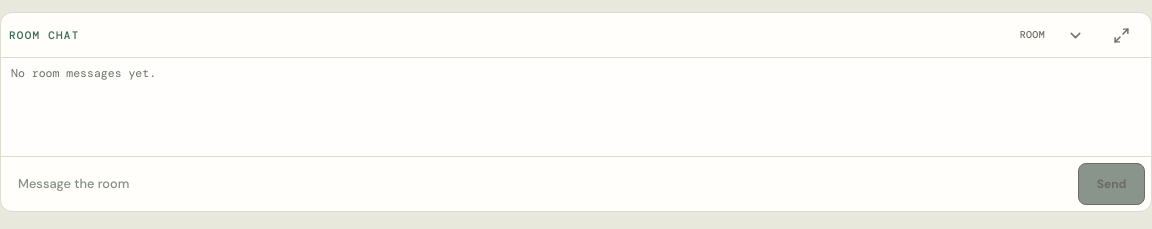
Test: RoomChatPanel message polling › sends player chat to the selected non-demo world
Expected: the text "No room messages yet." is shown, x1=11 y1=66 x2=156 y2=81
Type "Hello Bellwold" into the field labelled "Message the room" at coordinates (540, 184), box x1=7 y1=163 x2=1072 y2=205
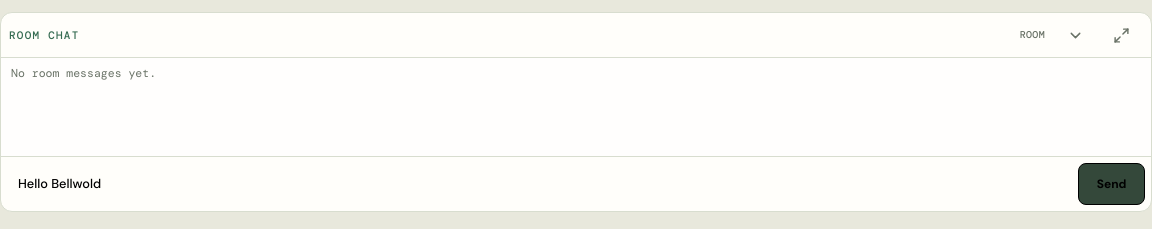
Submit the form named "Message the room", box x1=1 y1=156 x2=1151 y2=211
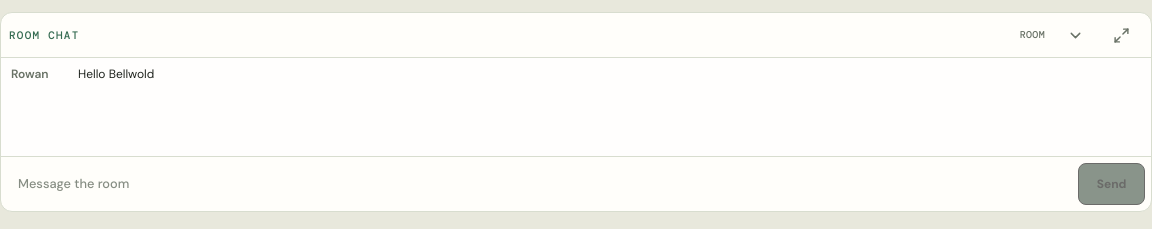
Now the text "Hello Bellwold" is shown, box x1=78 y1=66 x2=154 y2=82
